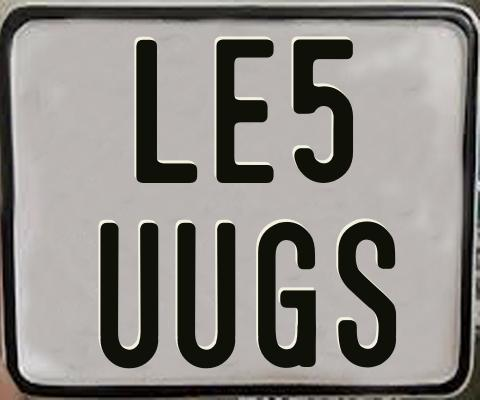5: (292, 36, 354, 183)
E: (215, 37, 277, 183)
G: (258, 222, 316, 369)
L: (136, 37, 197, 185)
S: (338, 221, 398, 373)
U: (98, 220, 162, 367), (175, 221, 234, 369)
